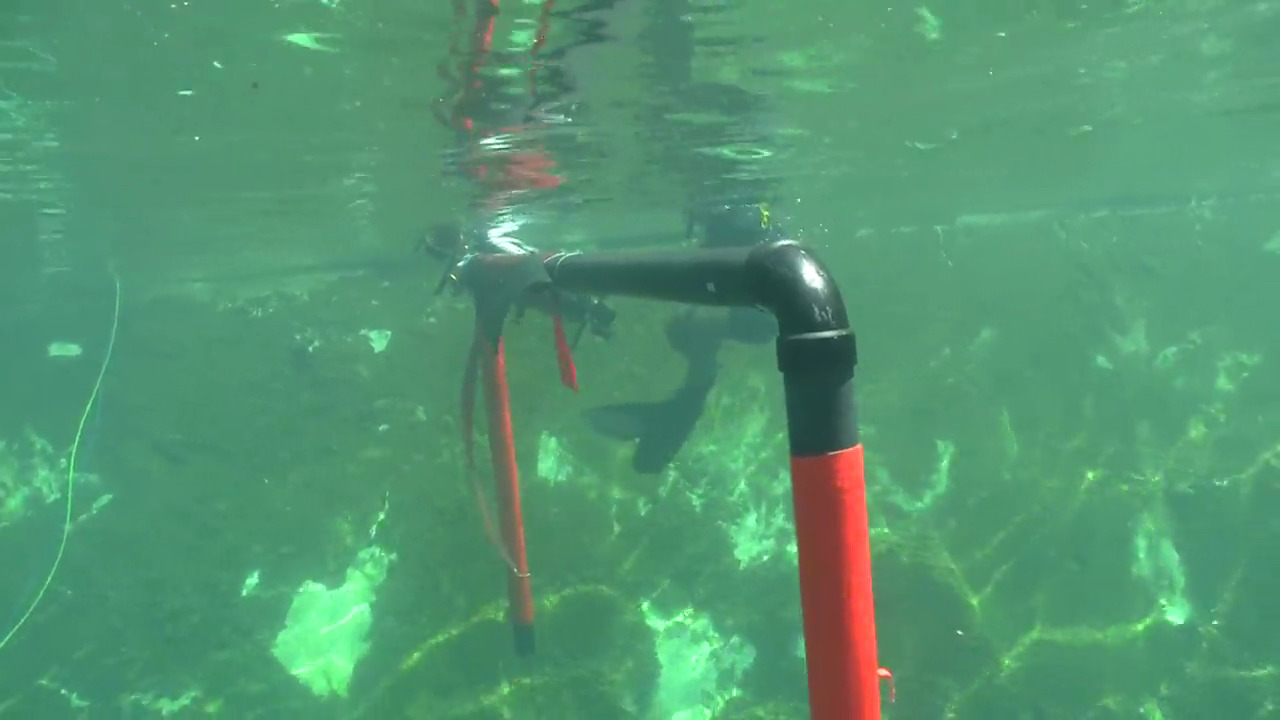gate: (460, 235, 895, 720)
